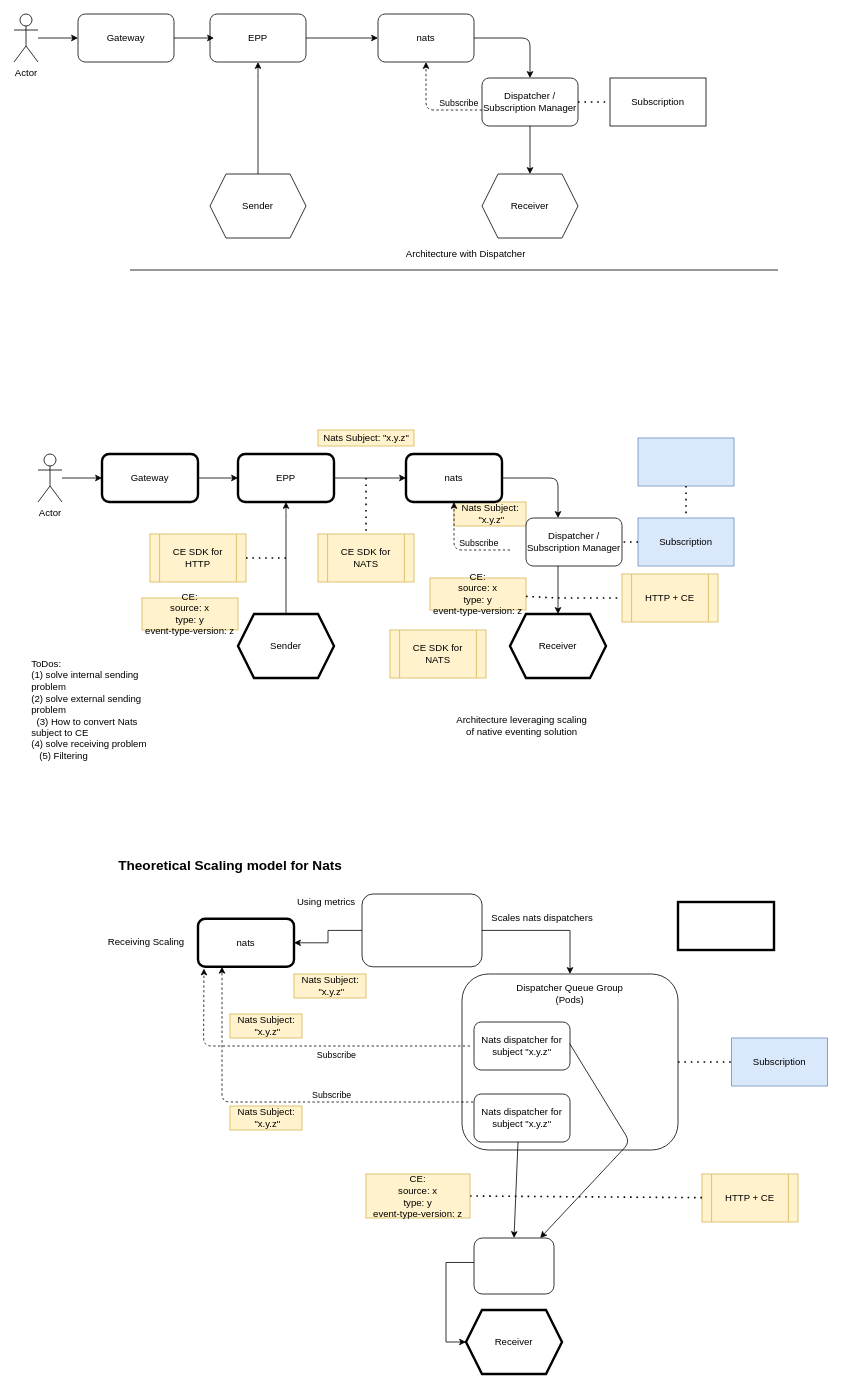
Some shapes in this 842 by 1389 pixel diagram are drawn without their labels. Each missing label, with the box of its shape:
Eventing Controller: (676, 900, 775, 951)
Filter: source/type/event-type-version: (637, 437, 734, 486)
K8s Service: (473, 1237, 554, 1294)
Keda for queue group "x.y.z": (361, 893, 482, 967)
